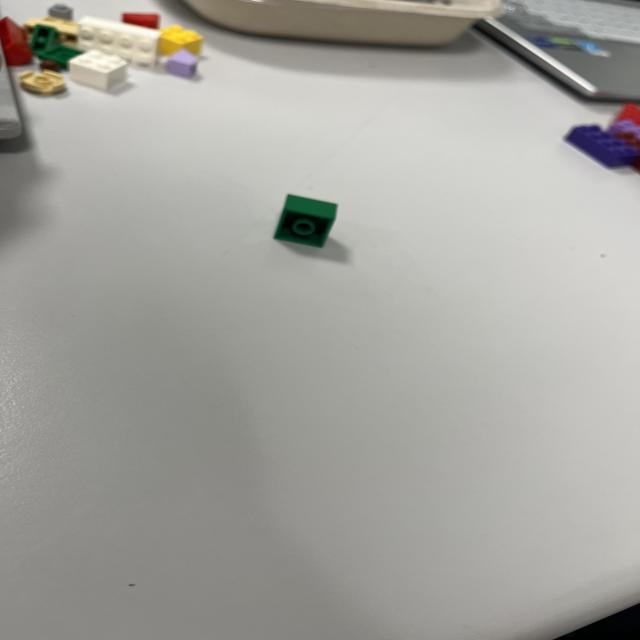C2x2x1: (269, 191, 343, 251)
